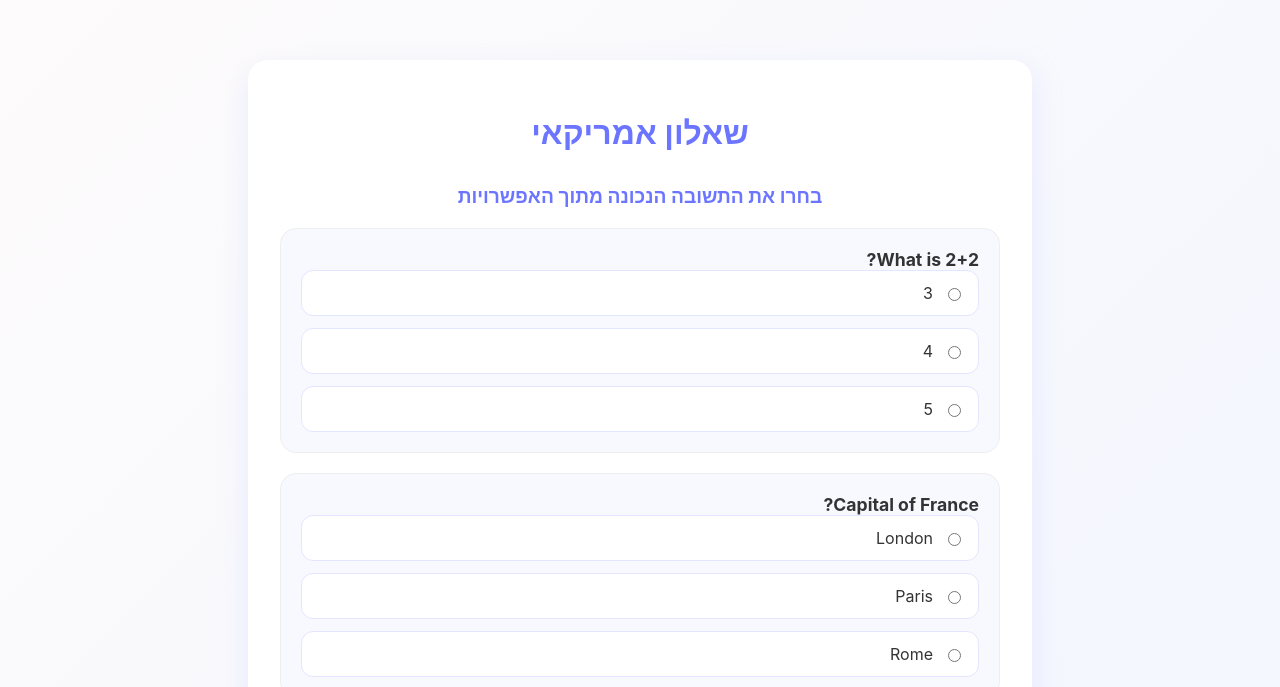
Test: QuizPage Component › marks correct and wrong answers after submission
// Select one correct, one wrong
What coordinates should you click on to do the following:
click the radio button labelled "4"
I would click on:
 (954, 352)
Its box is [948, 346, 961, 359].
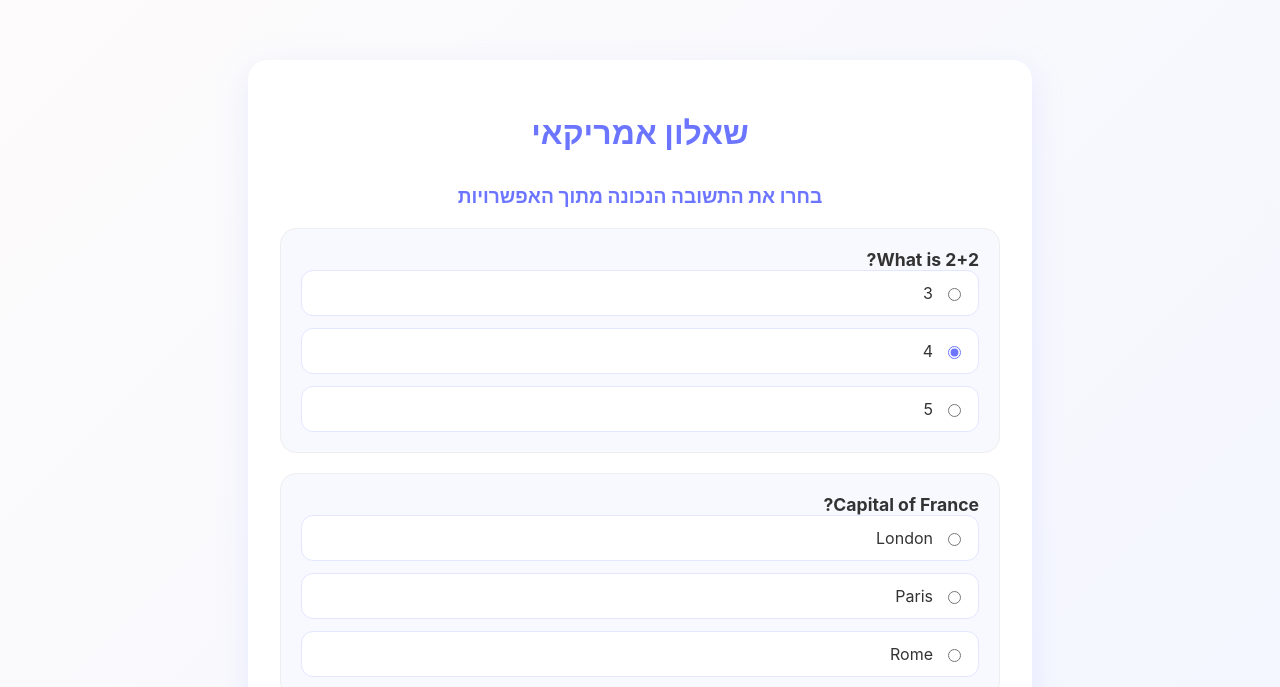
What coordinates should you click on to do the following:
click the radio button labelled "London"
I would click on:
 (954, 539)
Its box is [948, 533, 961, 546].
(page scrolled)
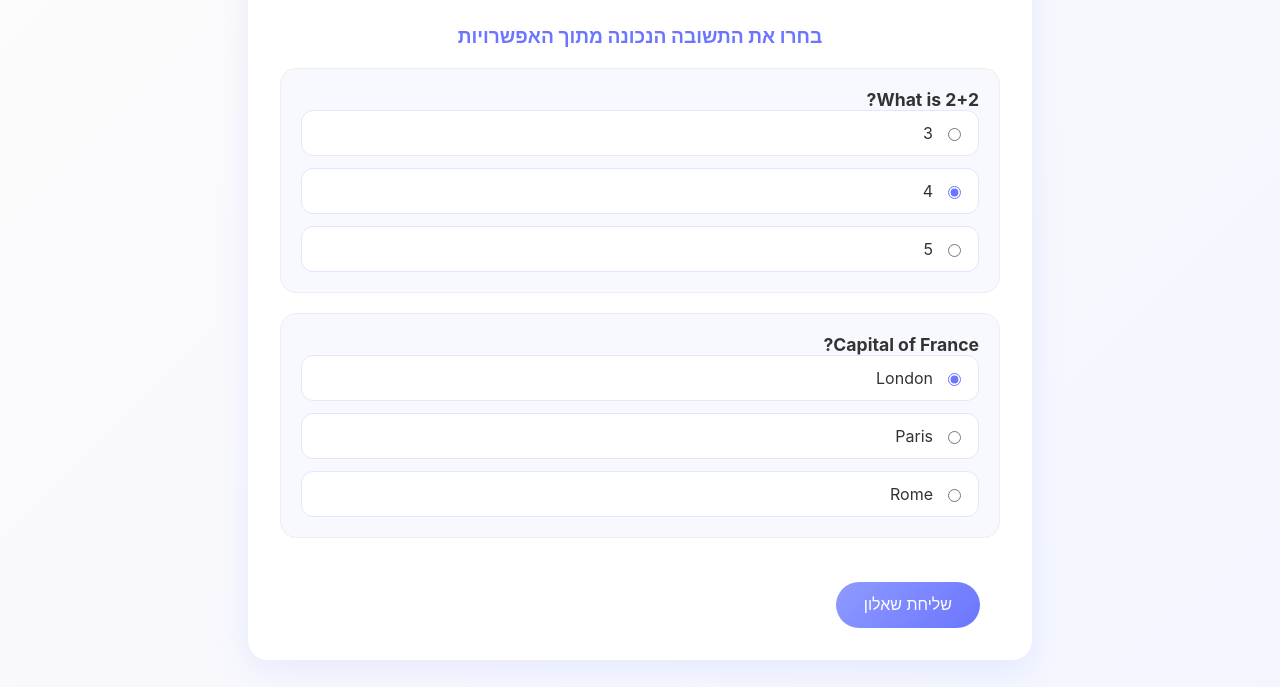
What coordinates should you click on to do the following:
click the button "שליחת שאלון"
I would click on:
 (908, 605)
Its box is [836, 582, 980, 628].
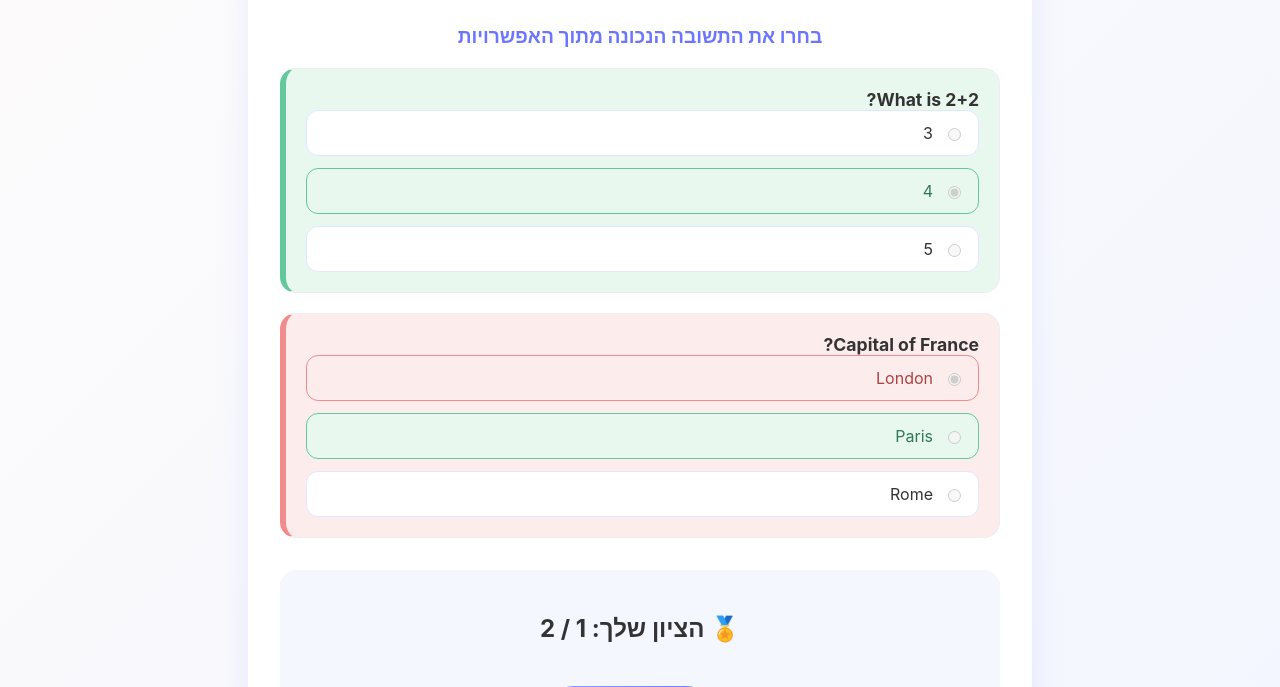
Expected: the heading "🏅 הציון שלך: 1 / 2" is shown, [540, 614, 740, 642]
